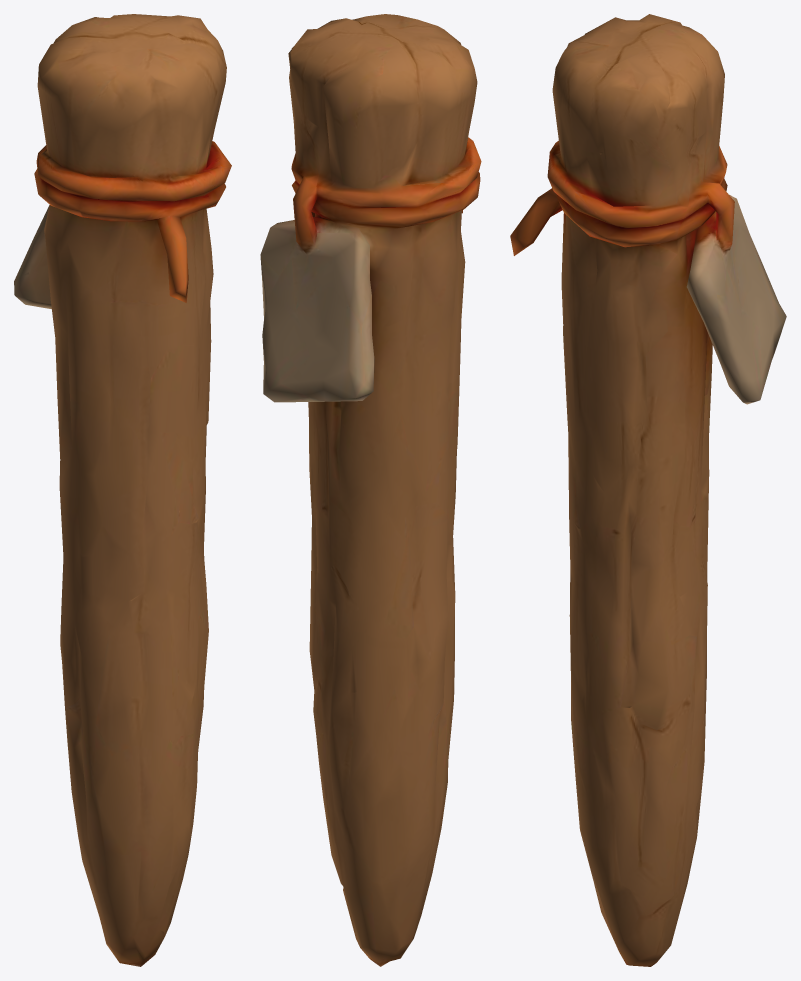
The model's file is grid_stake.glb.
3 views of the same model, side by side, from view 1: azimuth 30°, elevation 25°; view 2: azimuth 150°, elevation 25°; view 3: azimuth 270°, elevation 25° (orthographic).
Parts seen in each view (by area): view 1: tripo_node_b35233ab-ff84-4298-aae0-9b75f24e082c; view 2: tripo_node_b35233ab-ff84-4298-aae0-9b75f24e082c; view 3: tripo_node_b35233ab-ff84-4298-aae0-9b75f24e082c.
Boxes of the visible parts, x1,y1,x2,y2 form: tripo_node_b35233ab-ff84-4298-aae0-9b75f24e082c: [14, 14, 231, 966]; tripo_node_b35233ab-ff84-4298-aae0-9b75f24e082c: [260, 14, 481, 966]; tripo_node_b35233ab-ff84-4298-aae0-9b75f24e082c: [510, 14, 786, 966].
Bounding box in the file's own units: 0.1991 × 1 × 0.2706.
1 material, 1 textured.
